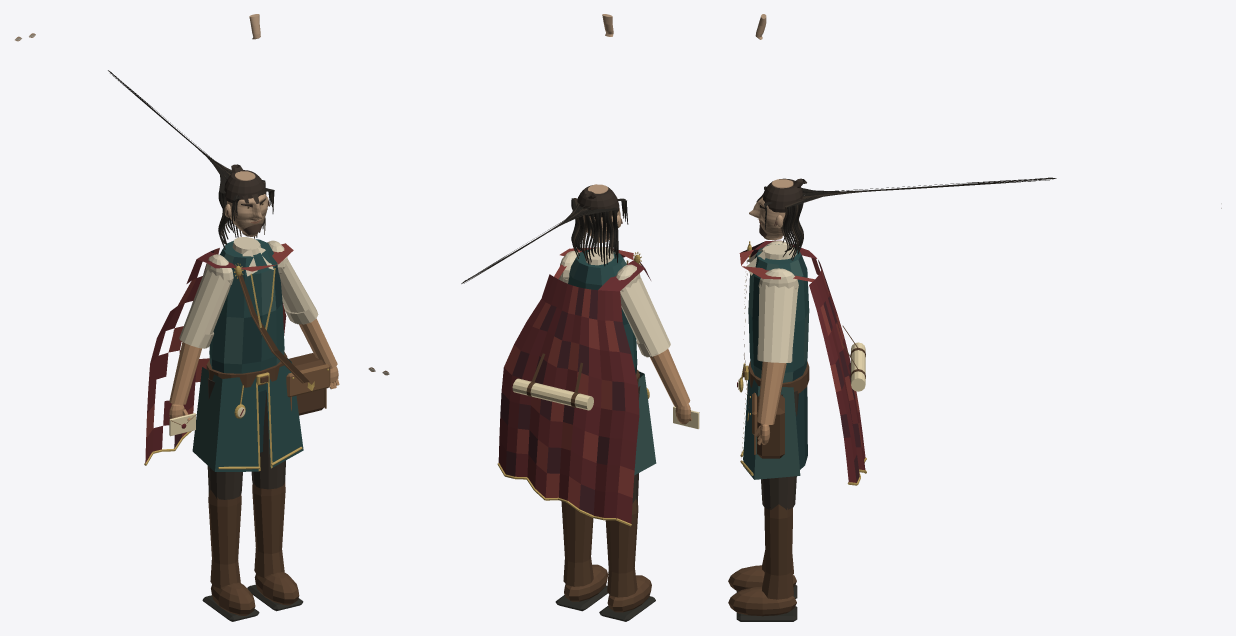
Rendered from courier.glb.
3 renders of one model, left to right at view 1: azimuth 30°, elevation 25°; view 2: azimuth 150°, elevation 25°; view 3: azimuth 270°, elevation 25°, orthographic.
Visible parts, largest first — view 1: Waistcoat, Split_coat_R, Cloak_folds, Boot_shaft_R, Boot_shaft_L, Split_coat_L, Linen_sleeve_R, Forearm_R, Trouser_thigh_L, Linen_sleeve_L, Face, Boot_toe_R (+9 smaller); view 2: Cloak_folds, Boot_shaft_R, Boot_shaft_L, Linen_sleeve_R, Waistcoat, Split_coat_R, Map_roll, Forearm_R, Boot_toe_L, Boot_toe_R, Hair_target_top, Boot_sole_R (+1 smaller); view 3: Cloak_folds, Waistcoat, Linen_sleeve_L, Boot_shaft_L, Split_coat_L, Boot_toe_L, Forearm_L, Trouser_thigh_L, Messenger_satchel, Face, Hair_target_top, Back_coat (+1 smaller).
Part boxes in pixels (left/top/right/bottom): Waistcoat: left=209, top=239, right=284, bottom=392; Split_coat_R: left=192, top=367, right=258, bottom=471; Cloak_folds: left=145, top=243, right=293, bottom=463; Boot_shaft_R: left=208, top=490, right=241, bottom=588; Boot_shaft_L: left=252, top=481, right=285, bottom=577; Split_coat_L: left=266, top=358, right=303, bottom=468; Linen_sleeve_R: left=179, top=267, right=231, bottom=348; Forearm_R: left=169, top=342, right=201, bottom=404; Trouser_thigh_L: left=251, top=392, right=285, bottom=489; Linen_sleeve_L: left=279, top=258, right=318, bottom=324; Face: left=227, top=171, right=267, bottom=236; Boot_toe_R: left=211, top=582, right=255, bottom=615; Cloak_folds: left=498, top=247, right=650, bottom=523; Boot_shaft_R: left=605, top=499, right=638, bottom=597; Boot_shaft_L: left=561, top=501, right=593, bottom=586; Linen_sleeve_R: left=620, top=276, right=670, bottom=357; Waistcoat: left=568, top=249, right=637, bottom=374; Split_coat_R: left=634, top=371, right=656, bottom=475; Map_roll: left=512, top=378, right=593, bottom=410; Forearm_R: left=650, top=348, right=690, bottom=407; Boot_toe_L: left=564, top=564, right=608, bottom=601; Boot_toe_R: left=607, top=575, right=651, bottom=612; Hair_target_top: left=577, top=185, right=619, bottom=217; Boot_sole_R: left=599, top=596, right=655, bottom=621; Cloak_folds: left=739, top=240, right=865, bottom=482; Waistcoat: left=748, top=244, right=809, bottom=382; Linen_sleeve_L: left=758, top=284, right=798, bottom=362; Boot_shaft_L: left=762, top=504, right=793, bottom=599; Split_coat_L: left=743, top=372, right=800, bottom=479; Boot_toe_L: left=728, top=586, right=796, bottom=616; Forearm_L: left=757, top=361, right=786, bottom=424; Trouser_thigh_L: left=761, top=390, right=798, bottom=509; Messenger_satchel: left=757, top=394, right=784, bottom=458; Face: left=749, top=179, right=793, bottom=240; Hair_target_top: left=763, top=178, right=802, bottom=212; Back_coat: left=795, top=386, right=807, bottom=469.
Size of the model in its own units: 0.7395 by 2.41 by 1.83.
